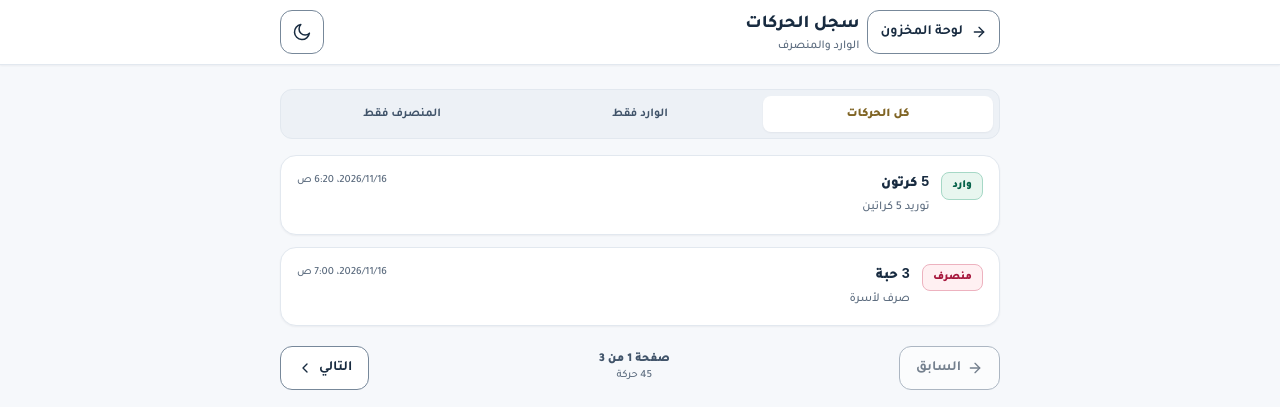
StockHistoryPage — العرض والفلترة والترقيم › فلتر الوارد يعيد جلب الصفحة 1 مع is_in=true ويعرض النتائج المفلترة
expect the text "صرف لأسرة" is shown: met, box left=849, top=290, right=910, bottom=309
Click the button "الوارد فقط" at point(640, 114), box left=525, top=96, right=755, bottom=132
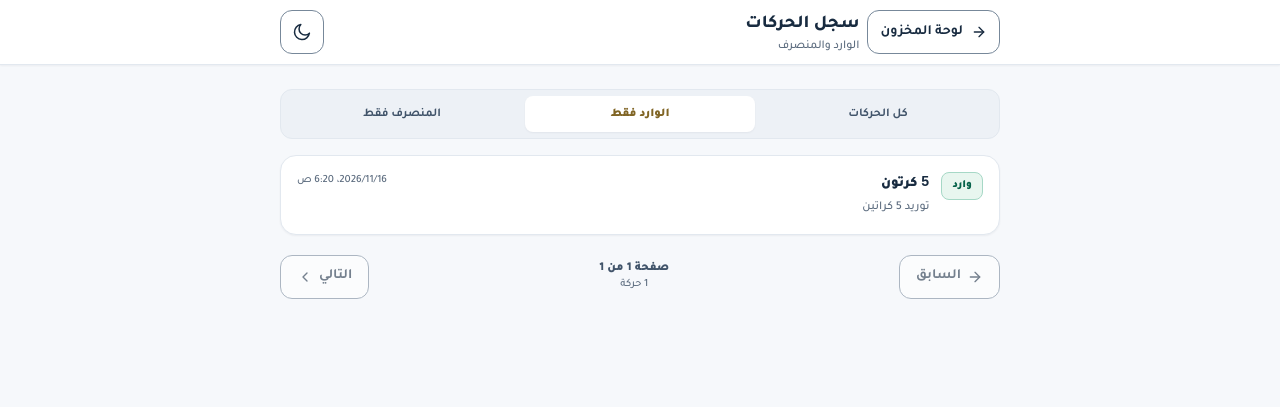
expect the text "صفحة 1 من 1" is shown: met, box left=599, top=260, right=669, bottom=276
expect the text "صرف لأسرة" is gone: met
